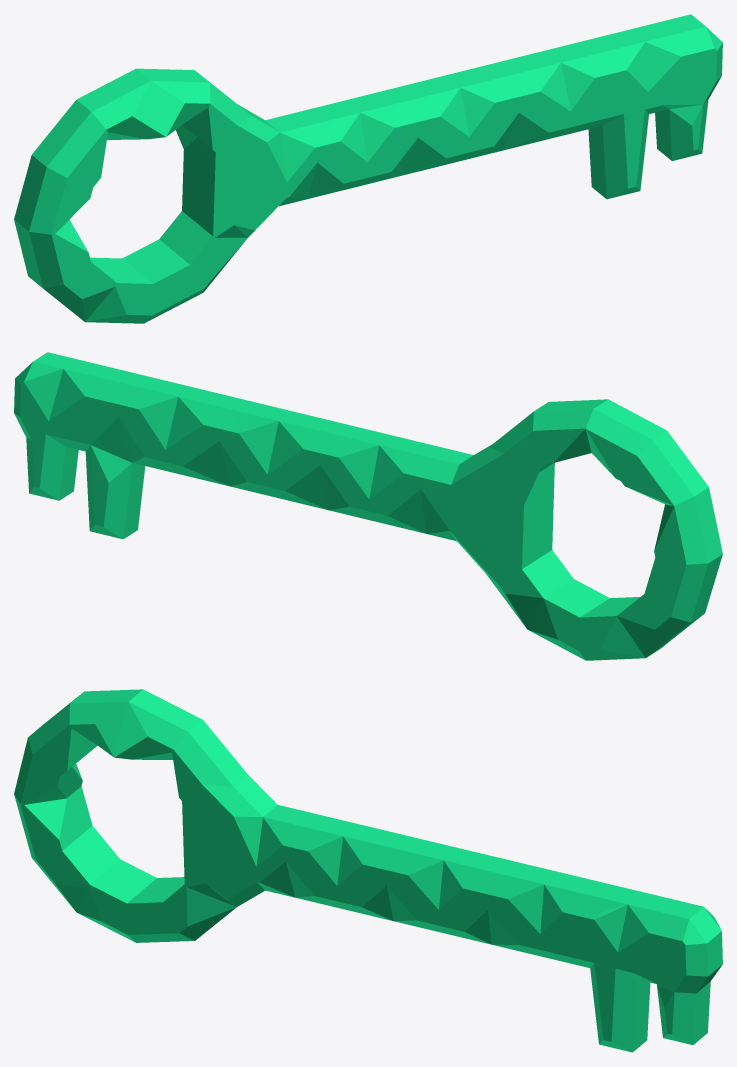
The model's file is green_key.glb.
3 views of the same model, one above another, from view 1: azimuth 30°, elevation 25°; view 2: azimuth 150°, elevation 25°; view 3: azimuth 330°, elevation 25° (orthographic).
Parts seen in each view (by area): view 1: Circle.024; view 2: Circle.024; view 3: Circle.024.
Part boxes in pixels (x1,y1,x2,y2): Circle.024: (14,14,722,323); Circle.024: (14,352,722,660); Circle.024: (14,689,722,1052).
Size of the model in its own units: 1.89 by 0.6483 by 0.217.
1 material, 1 textured.
